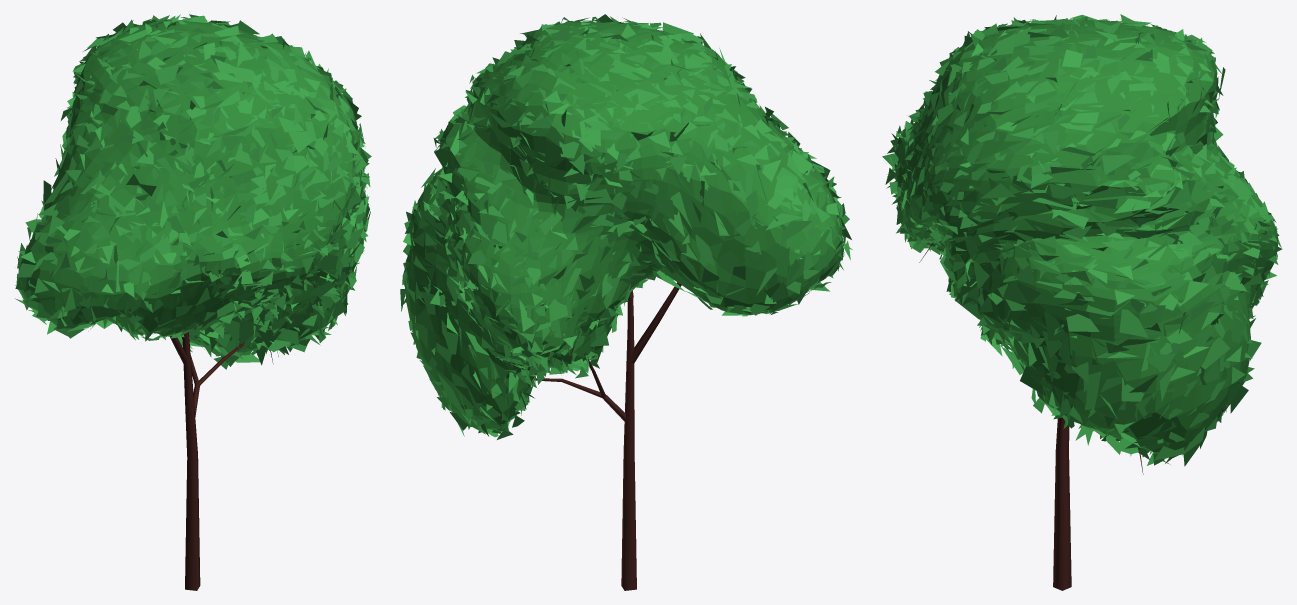
Rendered from StylizedTree1.fbx.
3 renders of one model, left to right at view 1: azimuth 30°, elevation 25°; view 2: azimuth 150°, elevation 25°; view 3: azimuth 270°, elevation 25°, orthographic. The views are drawn at different scales.
Parts seen in each view (by area): view 1: Icosphere.009, Trunk; view 2: Icosphere.009, Trunk; view 3: Icosphere.009, Trunk.
Part boxes in pixels (box(x1,y1,x2,y2)): Icosphere.009: box(15, 14, 371, 369); Trunk: box(169, 277, 316, 590); Icosphere.009: box(400, 14, 852, 439); Trunk: box(535, 282, 681, 590); Icosphere.009: box(882, 14, 1282, 466); Trunk: box(907, 237, 1143, 590).
Bounding box in the file's own units: 546 × 749 × 480.
3 materials, 1 textured.
